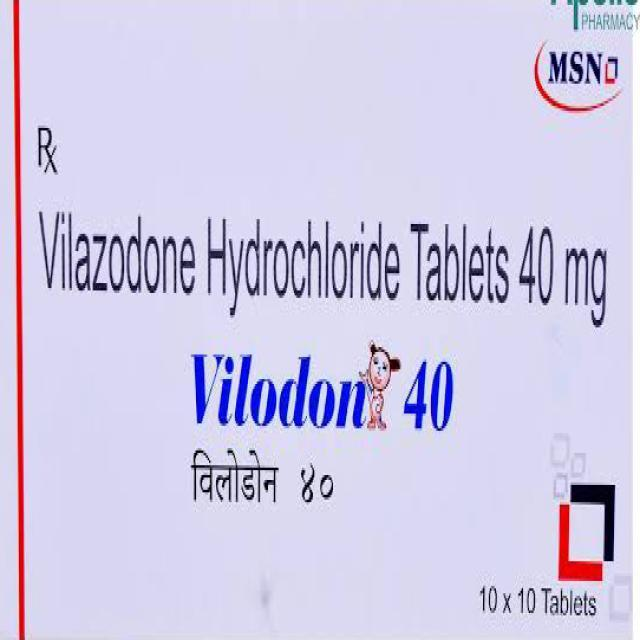drug-name: (190, 341, 454, 436)
